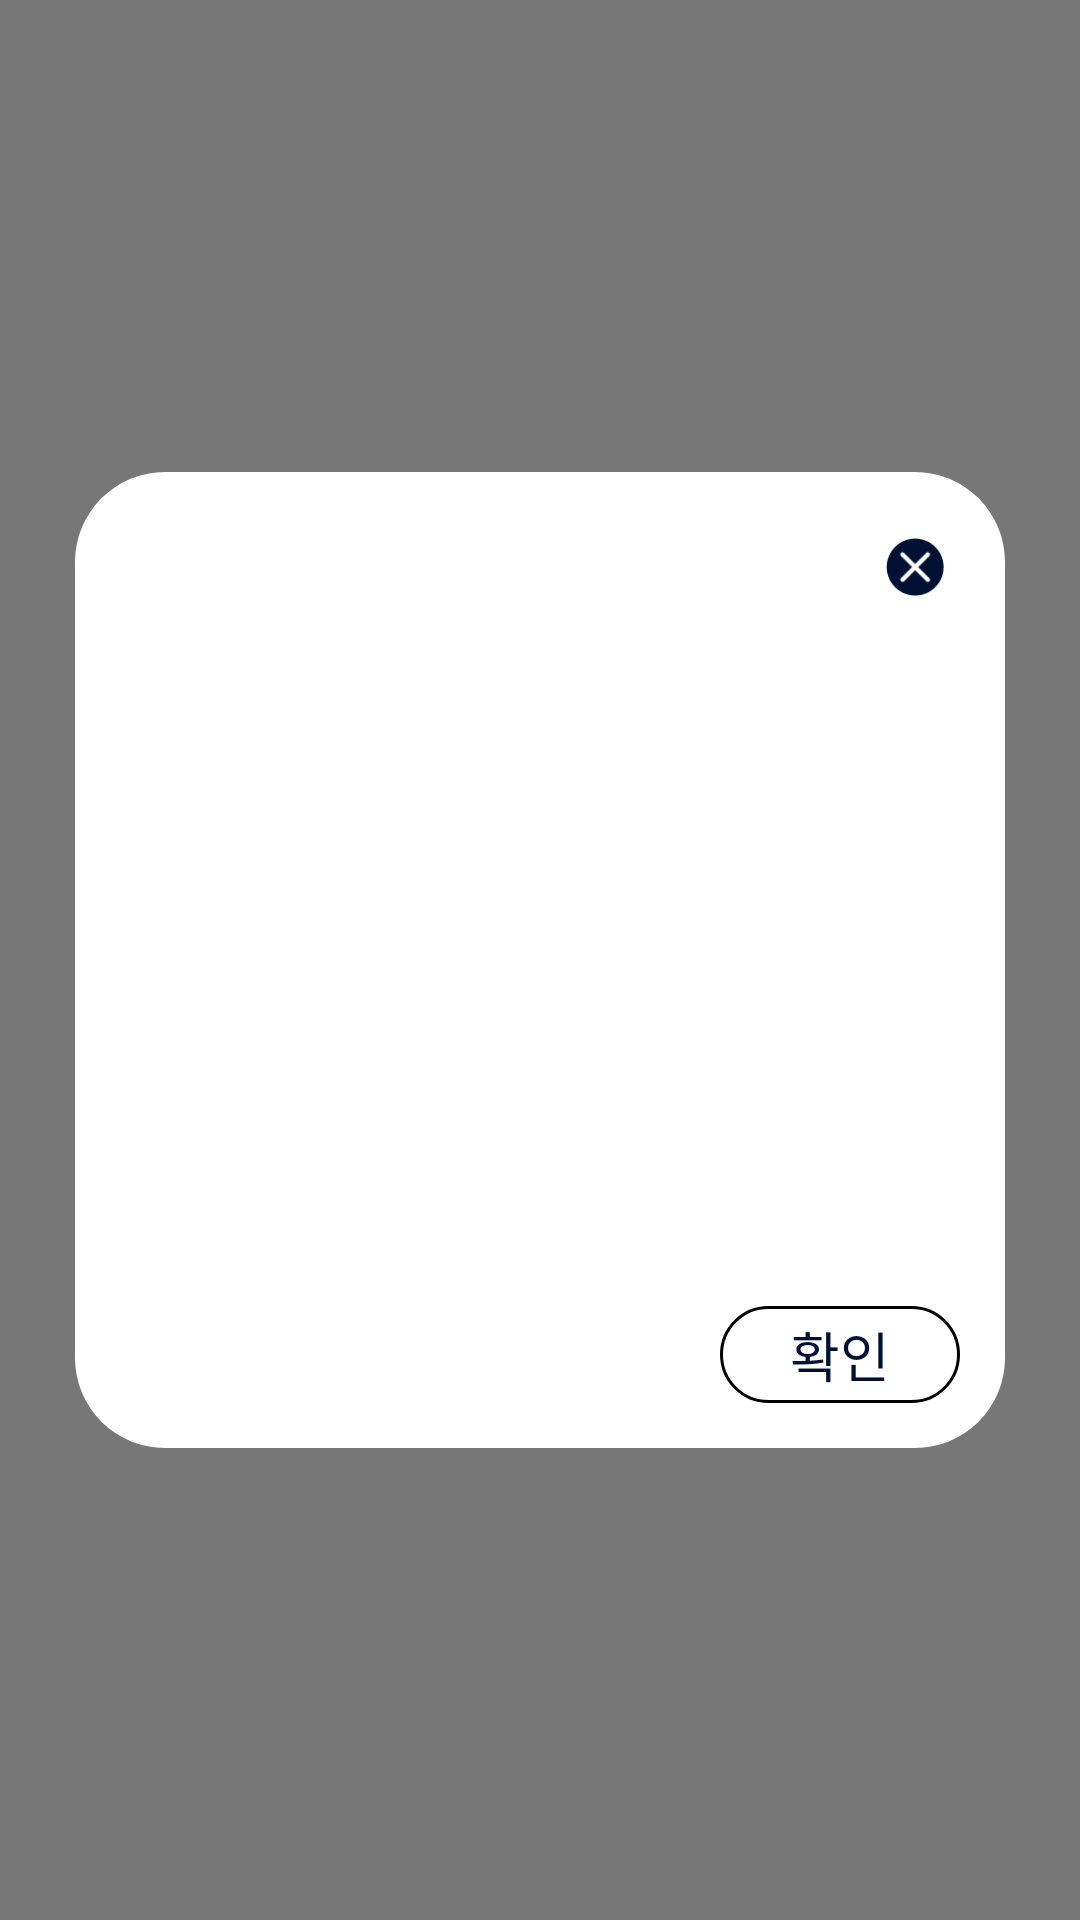

Icon bounding boxes for this 1080×1920 phone screenshot, format (x1, y1, x2, y2):
filter close: (886, 538, 944, 596)
